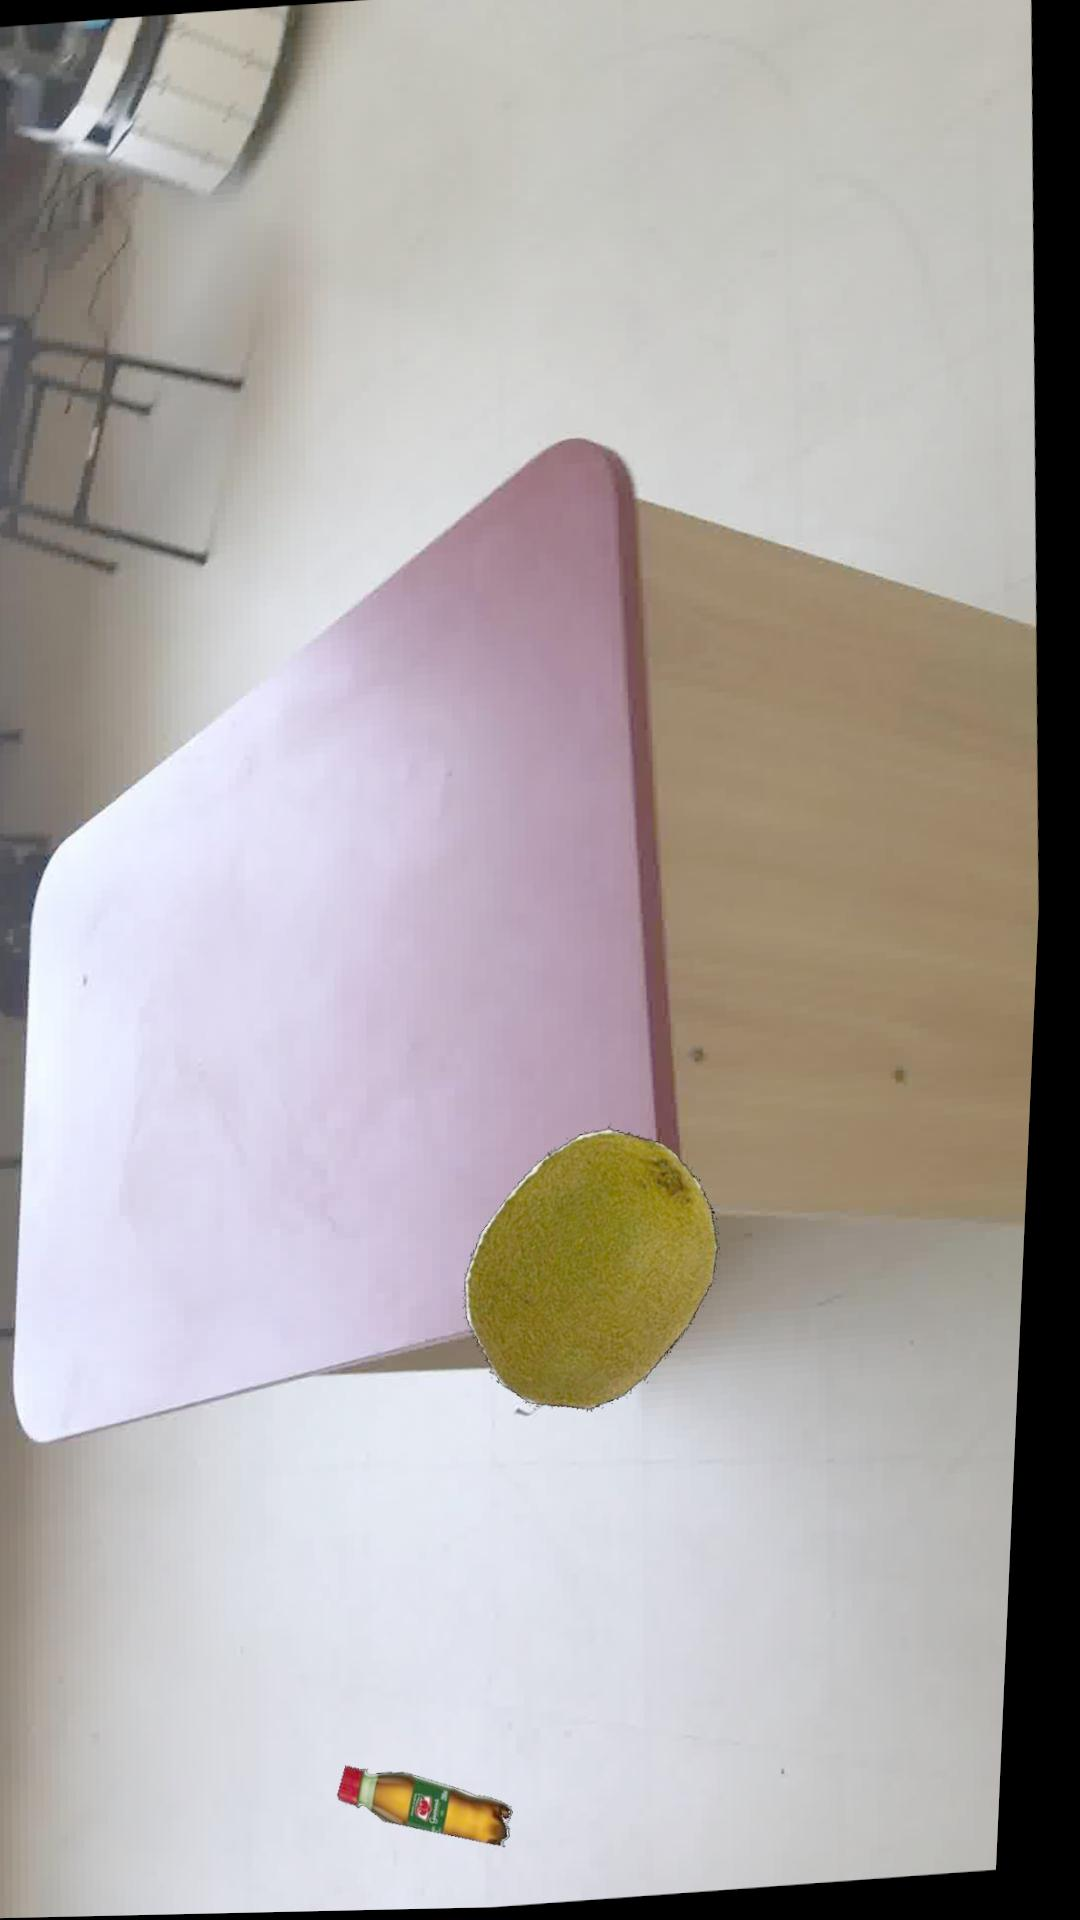guarana: (356, 1768, 531, 1850)
kiwi: (477, 1131, 731, 1416)
